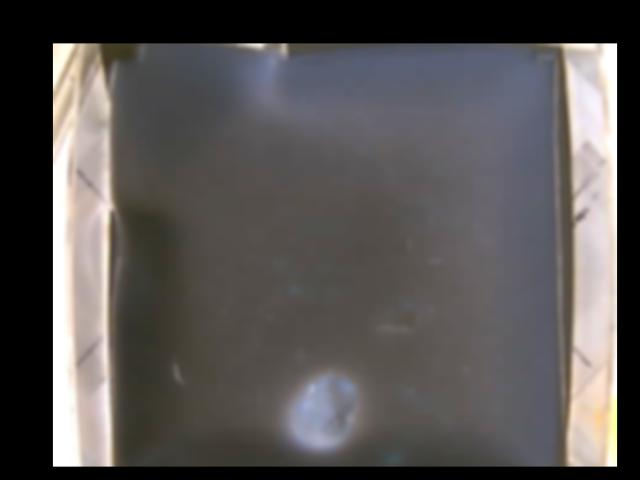Pebble: (290, 373, 358, 446)
